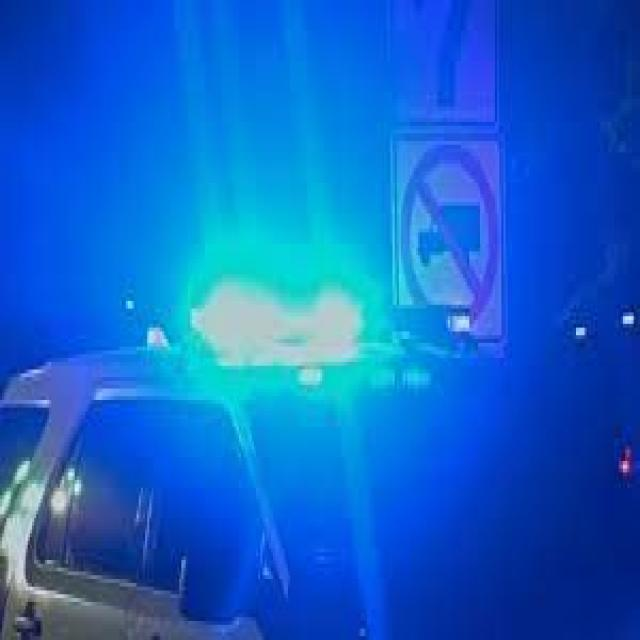emergency lights: (180, 232, 460, 392)
